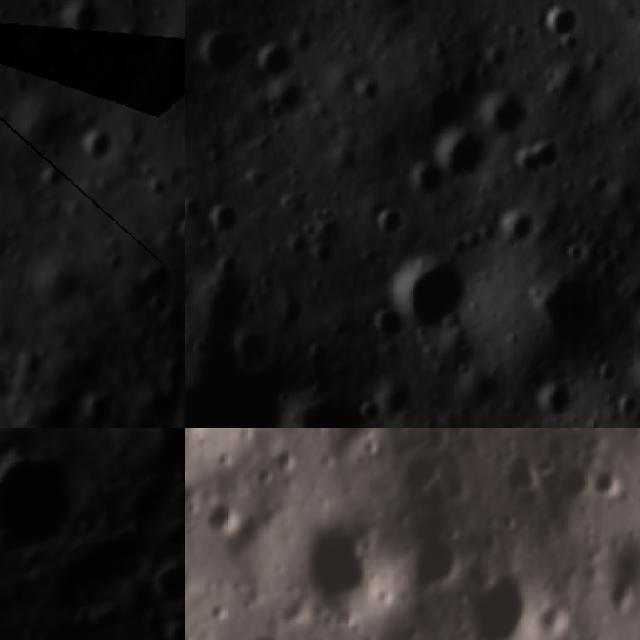crater: (2, 452, 94, 558), (292, 520, 390, 611), (381, 250, 472, 328), (458, 571, 553, 640), (514, 280, 601, 348), (402, 527, 473, 595), (428, 128, 490, 180), (193, 24, 251, 78), (476, 86, 533, 140), (56, 0, 110, 51), (68, 120, 120, 164), (585, 457, 632, 505), (203, 493, 246, 538), (537, 0, 581, 43), (404, 160, 448, 202), (366, 301, 409, 343), (552, 454, 587, 505), (254, 40, 295, 82), (139, 558, 185, 594), (538, 377, 578, 416), (203, 201, 243, 240), (369, 206, 406, 240), (168, 201, 185, 261), (351, 398, 384, 426), (159, 614, 185, 640), (584, 175, 611, 198), (240, 629, 293, 640)
